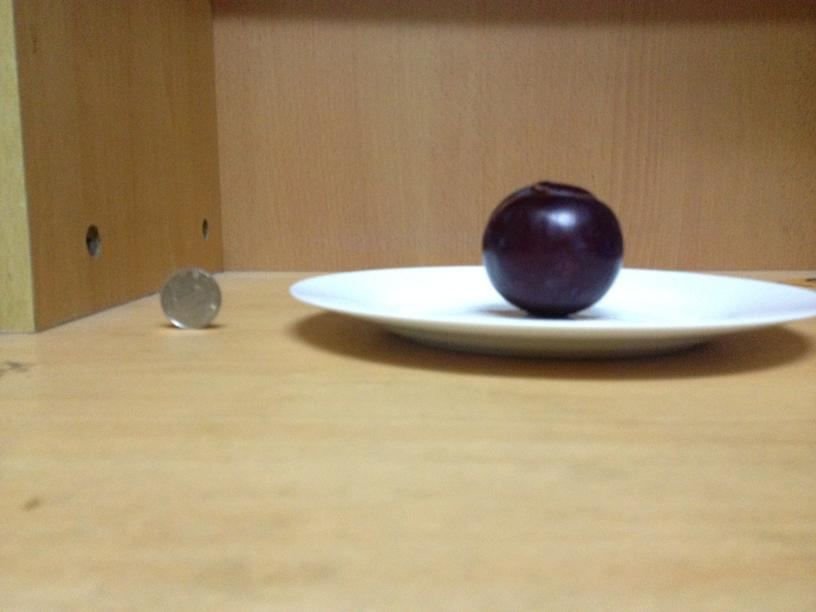coin: (160, 268, 221, 331)
plum: (480, 178, 626, 316)
